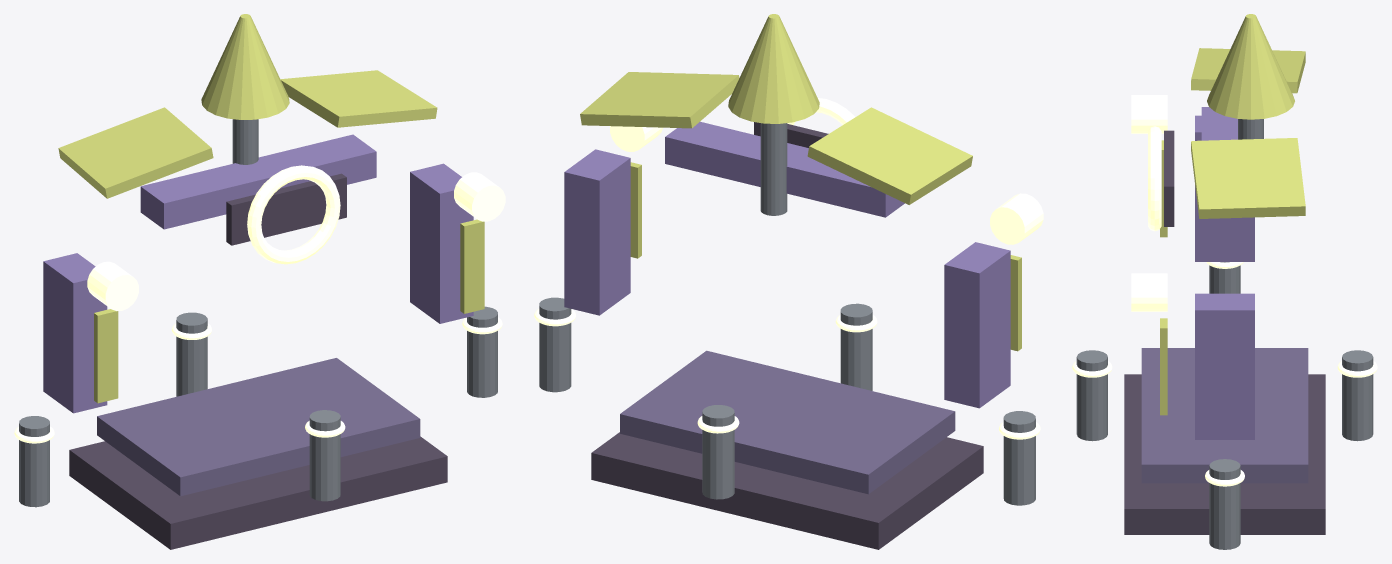
File: asset.glb
3 renders of one model, left to right at view 1: azimuth 30°, elevation 25°; view 2: azimuth 150°, elevation 25°; view 3: azimuth 270°, elevation 25°, orthographic. The views are drawn at different scales.
Visible parts, largest first — view 1: RaisedDeck, Foundation, CrossBeam, CanopyWing_-1, Pylon_-1, Pylon_1, CanopyWing_1, TopMarker, SignPanel, IdentityRing, Bollard_3, Bollard_2 (+7 smaller); view 2: RaisedDeck, Foundation, Pylon_1, Pylon_-1, CanopyWing_-1, CrossBeam, CanopyWing_1, TopMarker, Bollard_2, Bollard_1, Bollard_0, CenterMast (+6 smaller); view 3: RaisedDeck, Foundation, Pylon_1, CanopyWing_1, TopMarker, Bollard_1, Bollard_3, Bollard_0, CanopyWing_-1, Pylon_-1, CrossBeam, Lamp_1 (+6 smaller).
Boxes of the visible parts, x1=… form: RaisedDeck: x1=97, y1=358, x2=420, y2=496; Foundation: x1=69, y1=436, x2=447, y2=549; CrossBeam: x1=140, y1=134, x2=376, y2=229; CanopyWing_-1: x1=58, y1=107, x2=213, y2=198; Pylon_-1: x1=43, y1=253, x2=107, y2=413; Pylon_1: x1=410, y1=163, x2=473, y2=323; CanopyWing_1: x1=280, y1=70, x2=437, y2=127; TopMarker: x1=201, y1=14, x2=289, y2=119; SignPanel: x1=226, y1=173, x2=346, y2=245; IdentityRing: x1=247, y1=165, x2=340, y2=264; Bollard_3: x1=309, y1=410, x2=340, y2=501; Bollard_2: x1=19, y1=416, x2=49, y2=507; RaisedDeck: x1=620, y1=350, x2=955, y2=494; Foundation: x1=591, y1=432, x2=983, y2=549; Pylon_1: x1=564, y1=149, x2=630, y2=315; Pylon_-1: x1=944, y1=242, x2=1010, y2=408; CanopyWing_-1: x1=807, y1=107, x2=972, y2=204; CrossBeam: x1=665, y1=121, x2=904, y2=217; CanopyWing_1: x1=580, y1=72, x2=739, y2=128; TopMarker: x1=728, y1=14, x2=819, y2=123; Bollard_2: x1=1003, y1=411, x2=1035, y2=505; Bollard_1: x1=702, y1=405, x2=734, y2=499; Bollard_0: x1=539, y1=297, x2=571, y2=392; CenterMast: x1=760, y1=123, x2=787, y2=215; RaisedDeck: x1=1141, y1=348, x2=1308, y2=483; Foundation: x1=1124, y1=374, x2=1325, y2=534; Pylon_1: x1=1195, y1=293, x2=1254, y2=439; CanopyWing_1: x1=1191, y1=138, x2=1305, y2=218; TopMarker: x1=1207, y1=14, x2=1294, y2=119; Bollard_1: x1=1342, y1=350, x2=1373, y2=441; Bollard_3: x1=1076, y1=350, x2=1107, y2=441; Bollard_0: x1=1209, y1=459, x2=1240, y2=549; CanopyWing_-1: x1=1191, y1=48, x2=1305, y2=93; Pylon_-1: x1=1195, y1=115, x2=1254, y2=261; CrossBeam: x1=1201, y1=107, x2=1248, y2=236; Lamp_1: x1=1131, y1=273, x2=1167, y2=311.
Bounding box in the file's own units: 4.27 × 3.83 × 2.35.
